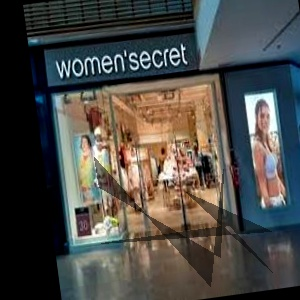women_secret: (175, 10, 202, 68)
